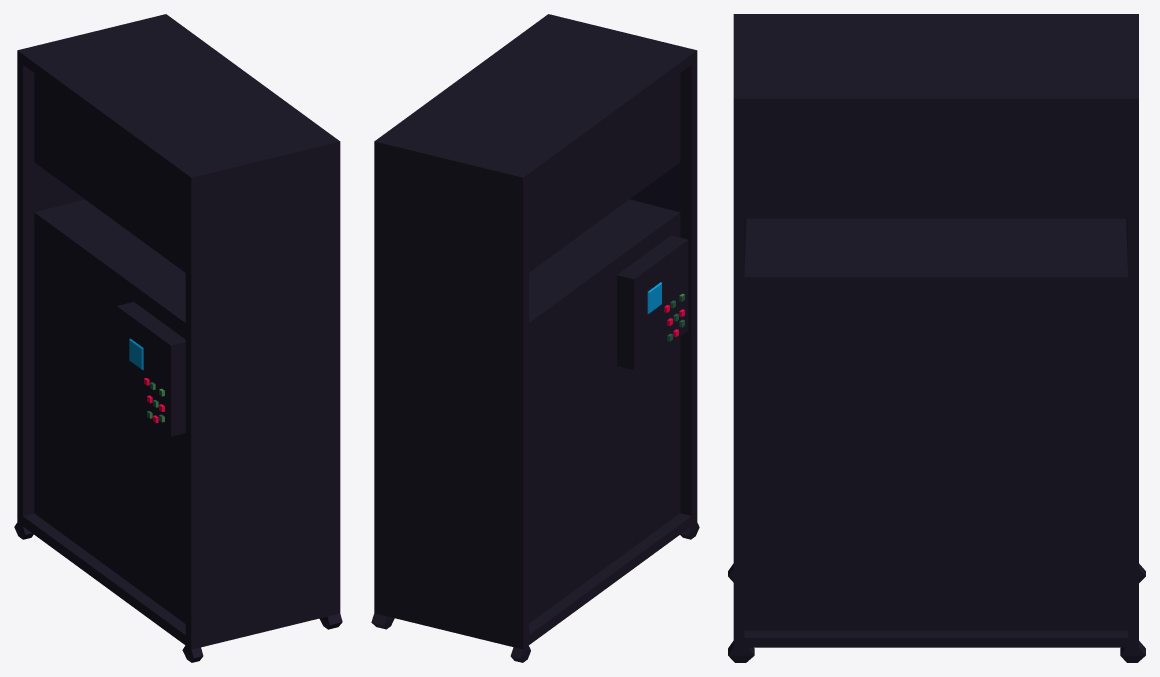
File: server2.glb
3 views of the same model, side by side, from view 1: azimuth 30°, elevation 25°; view 2: azimuth 150°, elevation 25°; view 3: azimuth 270°, elevation 25° (orthographic). The views are drawn at different scales.
Parts seen in each view (by area): view 1: Cube; view 2: Cube; view 3: Cube.
Part boxes in pixels (left/top/right/bottom): Cube: left=14, top=14, right=342, bottom=662; Cube: left=371, top=14, right=699, bottom=662; Cube: left=728, top=14, right=1145, bottom=662.
Bounding box in the file's own units: 2.12 × 6.24 × 4.18.
1 material, 1 textured.
